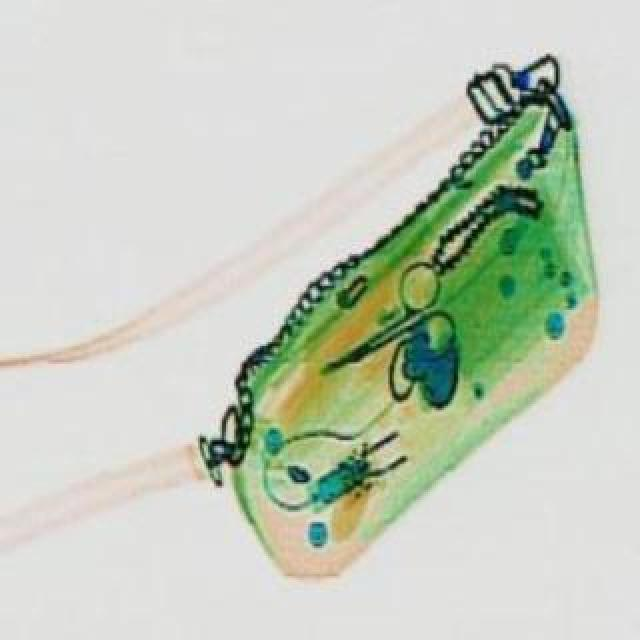pliers: (288, 248, 480, 410)
